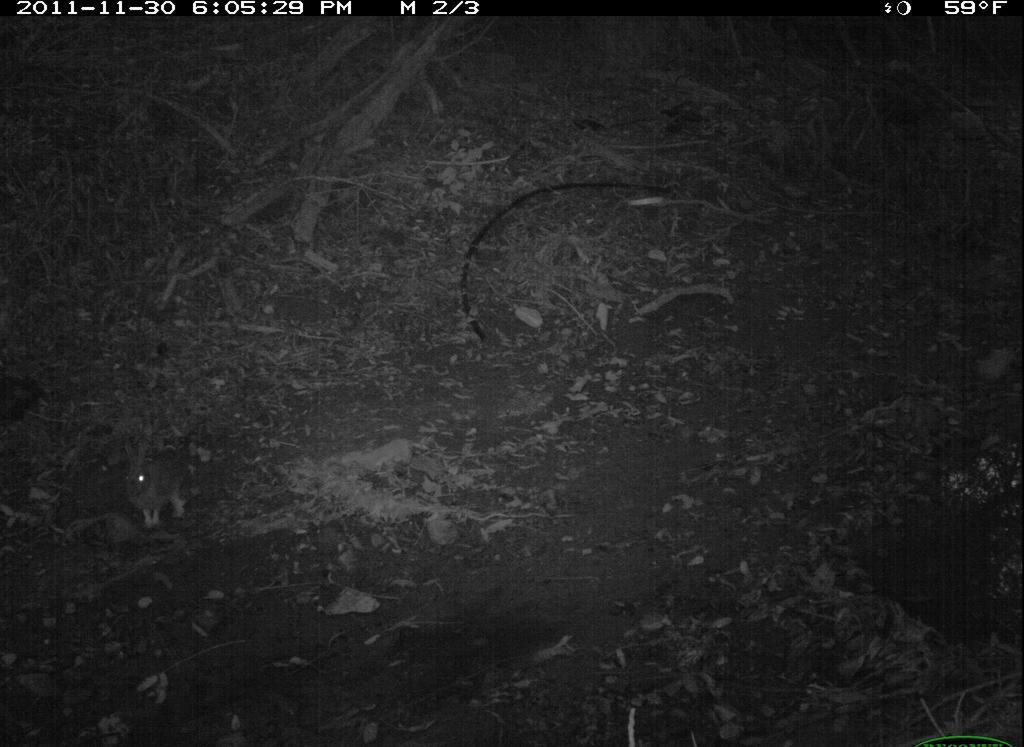rabbit: (117, 431, 200, 530)
